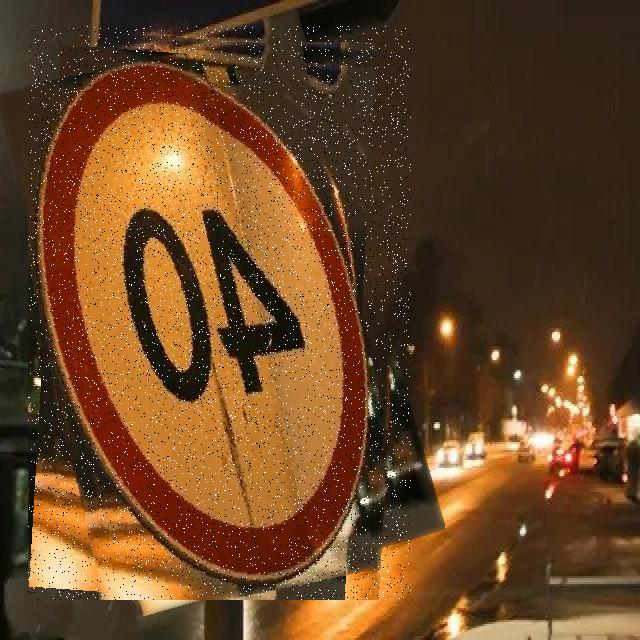speed limit 40: (28, 26, 411, 600)
